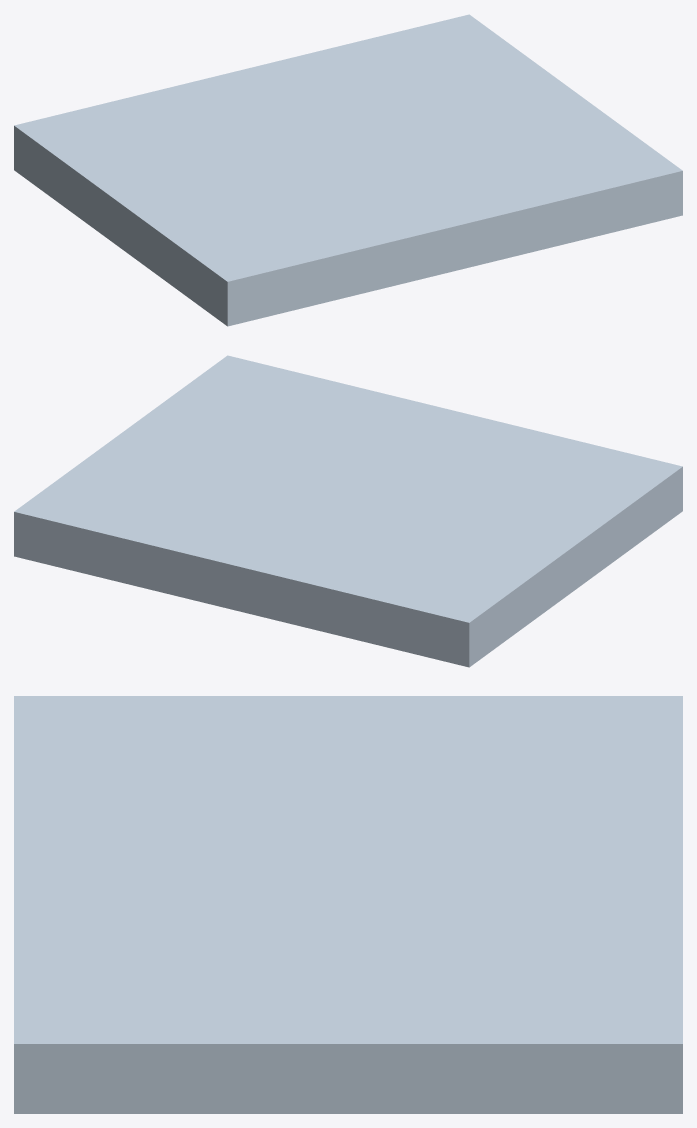
The model's file is rcc_one_way_two_way_slab.glb.
3 views of the same model, one above another, from view 1: azimuth 30°, elevation 25°; view 2: azimuth 150°, elevation 25°; view 3: azimuth 270°, elevation 25° (orthographic). The views are drawn at different scales.
Visible parts, largest first — view 1: TwoWayRestrainedRCCFloorSlab; view 2: TwoWayRestrainedRCCFloorSlab; view 3: TwoWayRestrainedRCCFloorSlab.
Part boxes in pixels (x1,y1,x2,y2): TwoWayRestrainedRCCFloorSlab: (14, 14, 682, 326); TwoWayRestrainedRCCFloorSlab: (14, 355, 682, 667); TwoWayRestrainedRCCFloorSlab: (14, 696, 682, 1113).
Bounding box in the file's own units: 1.6 × 0.15 × 1.3.
